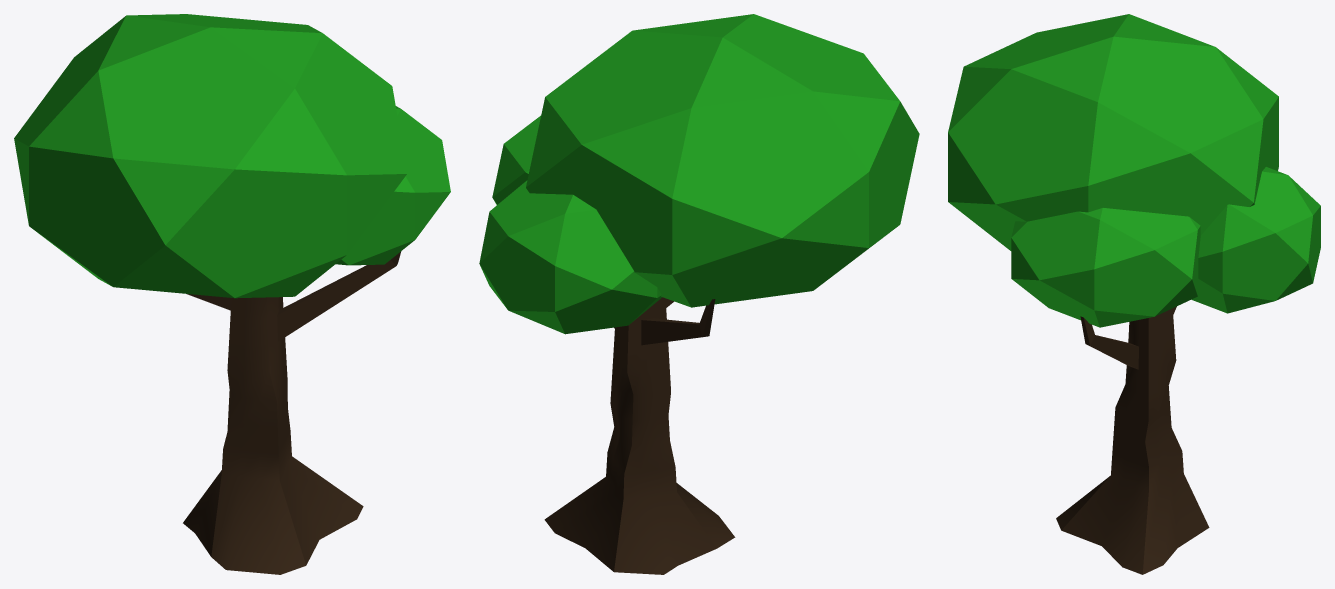
Rendered from tree.fbx.
3 renders of one model, left to right at view 1: azimuth 30°, elevation 25°; view 2: azimuth 150°, elevation 25°; view 3: azimuth 270°, elevation 25°, orthographic. The views are drawn at different scales.
Visible parts, largest first — view 1: copa 078, tronco025, copa 076; view 2: copa 078, tronco025, copa 077, copa 076; view 3: copa 078, tronco025, copa 076, copa 077.
Part boxes in pixels (x1,y1,x2,y2): copa 078: (14, 14, 407, 298); tronco025: (183, 251, 401, 574); copa 076: (336, 106, 450, 265); copa 078: (526, 14, 919, 307); tronco025: (544, 297, 735, 574); copa 077: (479, 180, 662, 334); copa 076: (492, 115, 540, 204); copa 078: (948, 14, 1278, 250); tronco025: (1056, 306, 1209, 574); copa 076: (1011, 208, 1200, 327); copa 077: (1191, 167, 1320, 313).
Bounding box in the file's own units: 4828 × 6337 × 4596.
